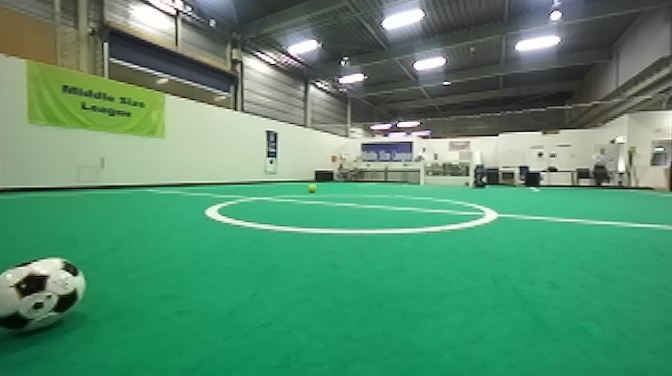ball: (1, 253, 89, 340), (304, 180, 318, 195)
goal: (419, 162, 472, 188)
goalpost: (418, 161, 425, 187), (468, 159, 472, 188)
